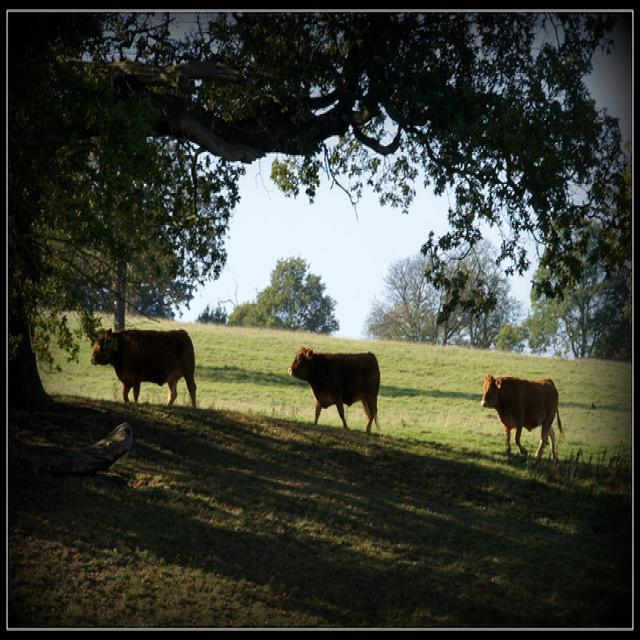cow: (89, 326, 195, 405), (287, 344, 380, 430), (478, 371, 564, 458)
